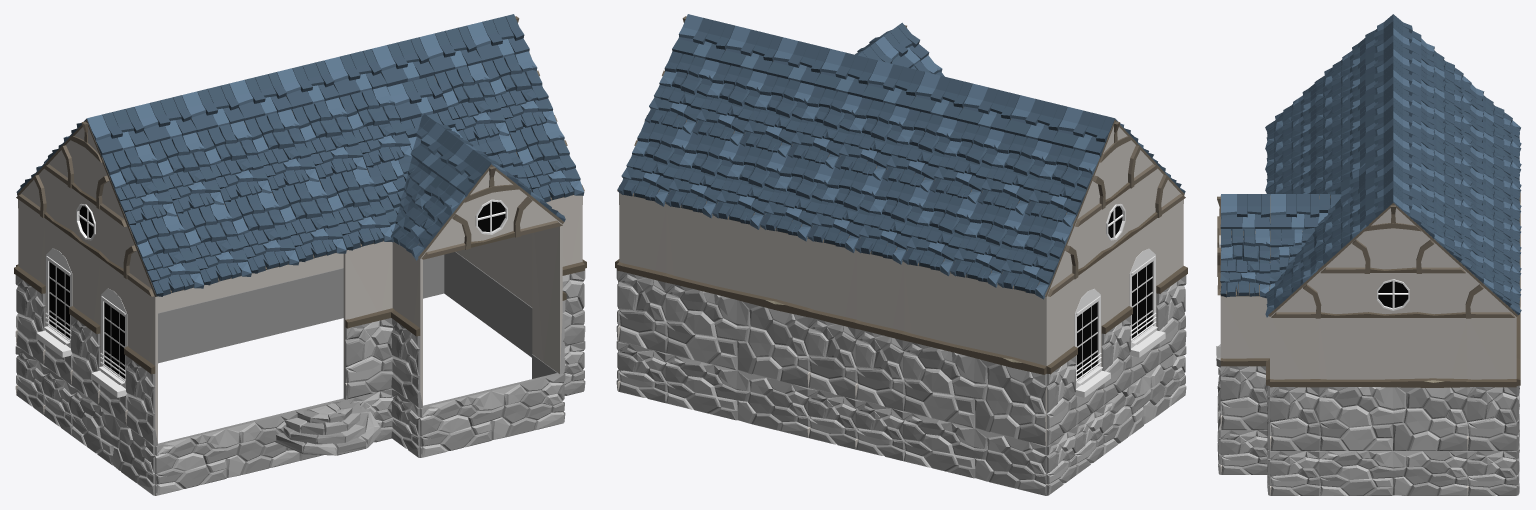
File: HOUSE_2_PARTS.fbx
The picture shows the model from 3 angles, left to right: view 1: azimuth 30°, elevation 25°; view 2: azimuth 150°, elevation 25°; view 3: azimuth 270°, elevation 25°; orthographic projection. The views are drawn at different scales.
Visible parts, largest first — view 1: FOUNDATION_01_2, WALL_04_26, FOUNDATION_01_3, WALL_04_30, WALL_04_27, FOUNDATION_01_6, WALL_04_31, FOUNDATION_01_4, STAIRS_05_2, WALL_04_28, WINDOW_02_4, WINDOW_02_5 (+58 smaller); view 2: WALL_01_7, WALL_01_6, FOUNDATION_01_5, FOUNDATION_01_6, WALL_04_38, WALL_04_37, WALL_04_36, WALL_04_29, FOUNDATION_01_4, WALL_04_28, WALL_04_30, WINDOW_02_5 (+42 smaller); view 3: WALL_01_5, FOUNDATION_01_7, WALL_04_34, WALL_04_33, WALL_04_31, ROOF_base_17, FOUNDATION_03_8, FOUNDATION_03_7, ROOF_TRIANGLE_WINDOW_ROUND_4, ROOF_TRIANGLE_WOOD_2, ROOF_TRIANGLE_WOOD_3, FOUNDATION_03_5 (+64 smaller).
Part boxes in pixels (left/top/right/bottom): FOUNDATION_01_2: left=419, top=373, right=564, bottom=457; WALL_04_26: left=343, top=241, right=393, bottom=399; FOUNDATION_01_3: left=154, top=410, right=299, bottom=495; WALL_04_30: left=124, top=279, right=157, bottom=446; WALL_04_27: left=391, top=242, right=422, bottom=408; FOUNDATION_01_6: left=257, top=268, right=343, bottom=338; WALL_04_31: left=532, top=226, right=566, bottom=373; FOUNDATION_01_4: left=70, top=386, right=158, bottom=495; STAIRS_05_2: left=275, top=399, right=380, bottom=455; WALL_04_28: left=69, top=239, right=100, bottom=404; WINDOW_02_4: left=36, top=219, right=72, bottom=384; WINDOW_02_5: left=91, top=259, right=127, bottom=424; WALL_01_7: left=902, top=262, right=1048, bottom=445; WALL_01_6: left=664, top=204, right=809, bottom=387; FOUNDATION_01_5: left=902, top=411, right=1048, bottom=495; FOUNDATION_01_6: left=665, top=353, right=809, bottom=437; WALL_04_38: left=854, top=251, right=904, bottom=410; WALL_04_37: left=807, top=239, right=856, bottom=399; WALL_04_36: left=617, top=195, right=666, bottom=352; WALL_04_29: left=1044, top=279, right=1077, bottom=445; FOUNDATION_01_4: left=1101, top=346, right=1186, bottom=455; WALL_04_28: left=1101, top=239, right=1132, bottom=404; WALL_04_30: left=1156, top=199, right=1187, bottom=364; WINDOW_02_5: left=1129, top=219, right=1165, bottom=384; WALL_01_5: left=1319, top=318, right=1467, bottom=450; FOUNDATION_01_7: left=1319, top=451, right=1467, bottom=495; WALL_04_34: left=1467, top=318, right=1516, bottom=450; WALL_04_33: left=1270, top=318, right=1319, bottom=450; WALL_04_31: left=1220, top=296, right=1269, bottom=430; ROOF_base_17: left=1220, top=228, right=1270, bottom=298; FOUNDATION_03_8: left=1467, top=450, right=1516, bottom=495; FOUNDATION_03_7: left=1270, top=450, right=1319, bottom=495; ROOF_TRIANGLE_WINDOW_ROUND_4: left=1368, top=273, right=1417, bottom=317; ROOF_TRIANGLE_WOOD_2: left=1319, top=272, right=1368, bottom=317; ROOF_TRIANGLE_WOOD_3: left=1418, top=272, right=1467, bottom=317; FOUNDATION_03_5: left=1220, top=429, right=1267, bottom=474.
Size of the model in its own units: 929 by 659 by 619.
